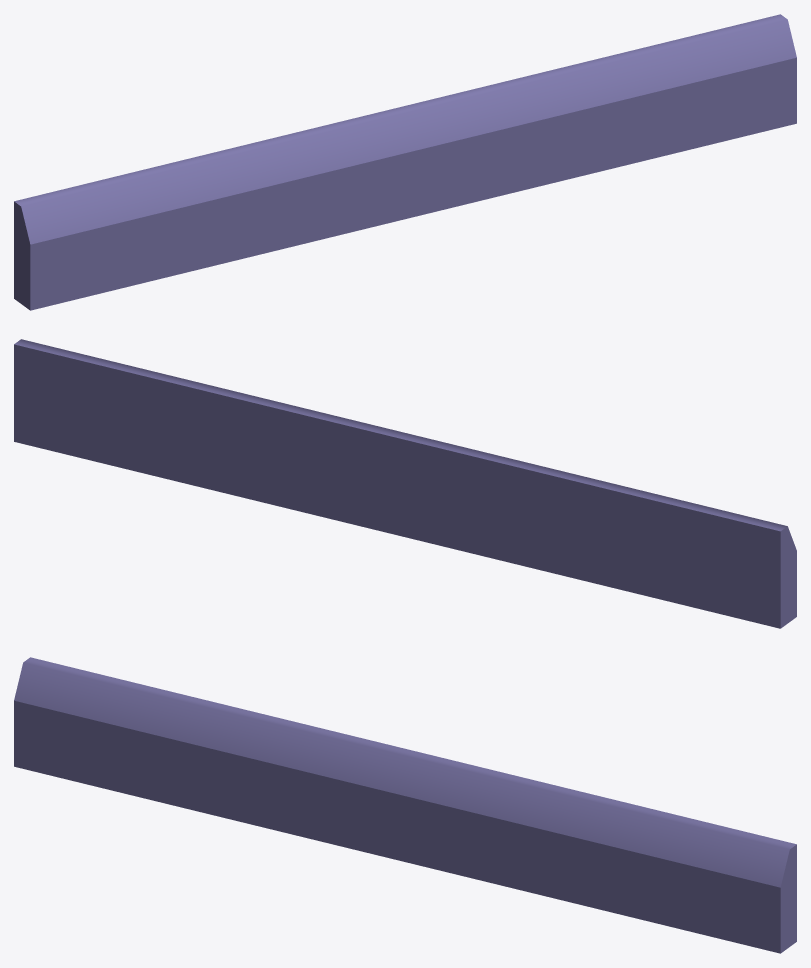
Rendered from zocalo.fbx.
The picture shows the model from 3 angles, top to bottom: view 1: azimuth 30°, elevation 25°; view 2: azimuth 150°, elevation 25°; view 3: azimuth 330°, elevation 25°; orthographic projection.
Visible parts, largest first — view 1: Zocalo; view 2: Zocalo; view 3: Zocalo.
Part boxes in pixels (left/top/right/bottom): Zocalo: left=14, top=14, right=796, bottom=310; Zocalo: left=14, top=339, right=796, bottom=628; Zocalo: left=14, top=657, right=796, bottom=953.
Bounding box in the file's own units: 0.4431 × 0.0538 × 0.0164.
